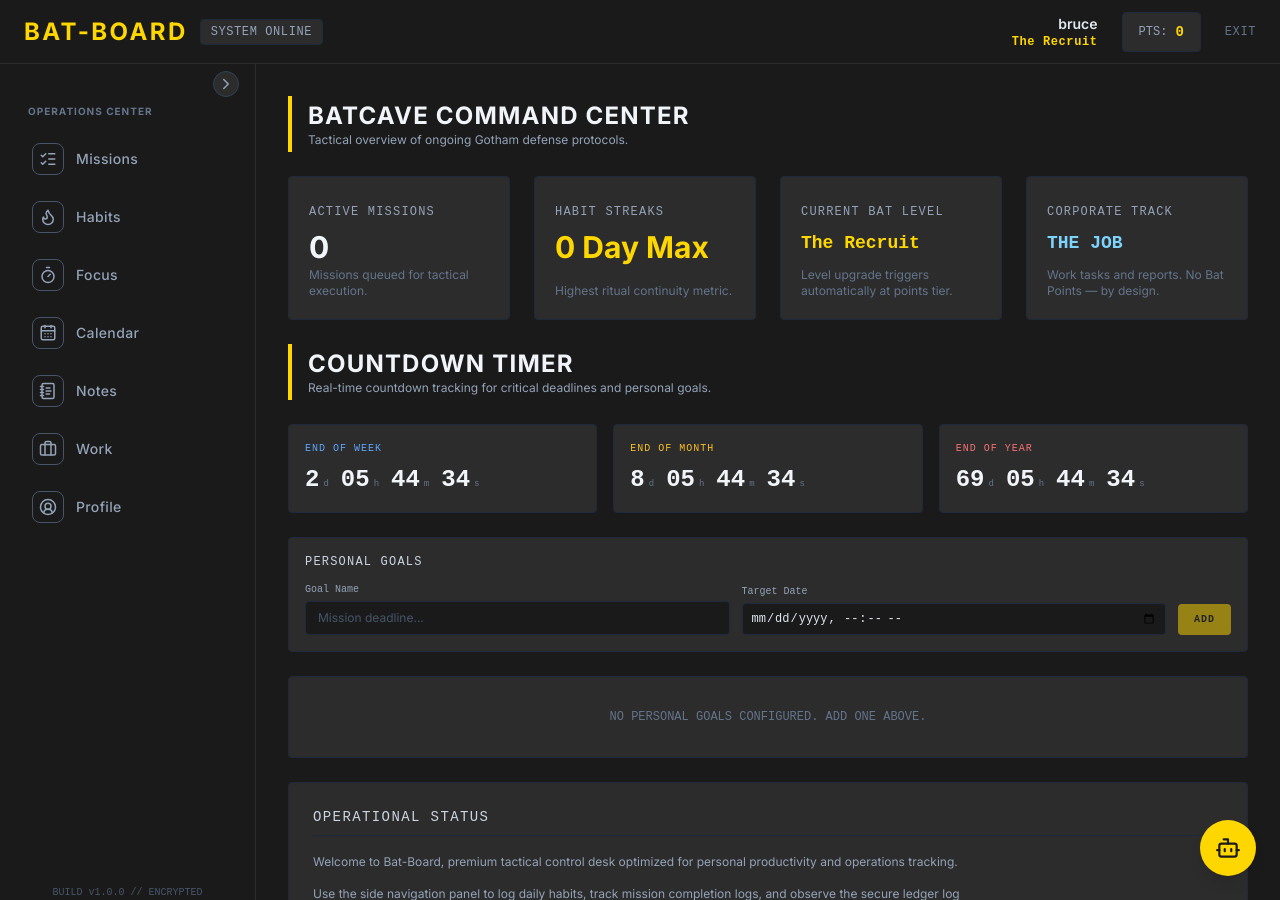
the work side appears only when it is switched on › leaves the work view cleanly if the track is switched off elsewhere
Click the button "Work": click(128, 449) [16,421,239,477]
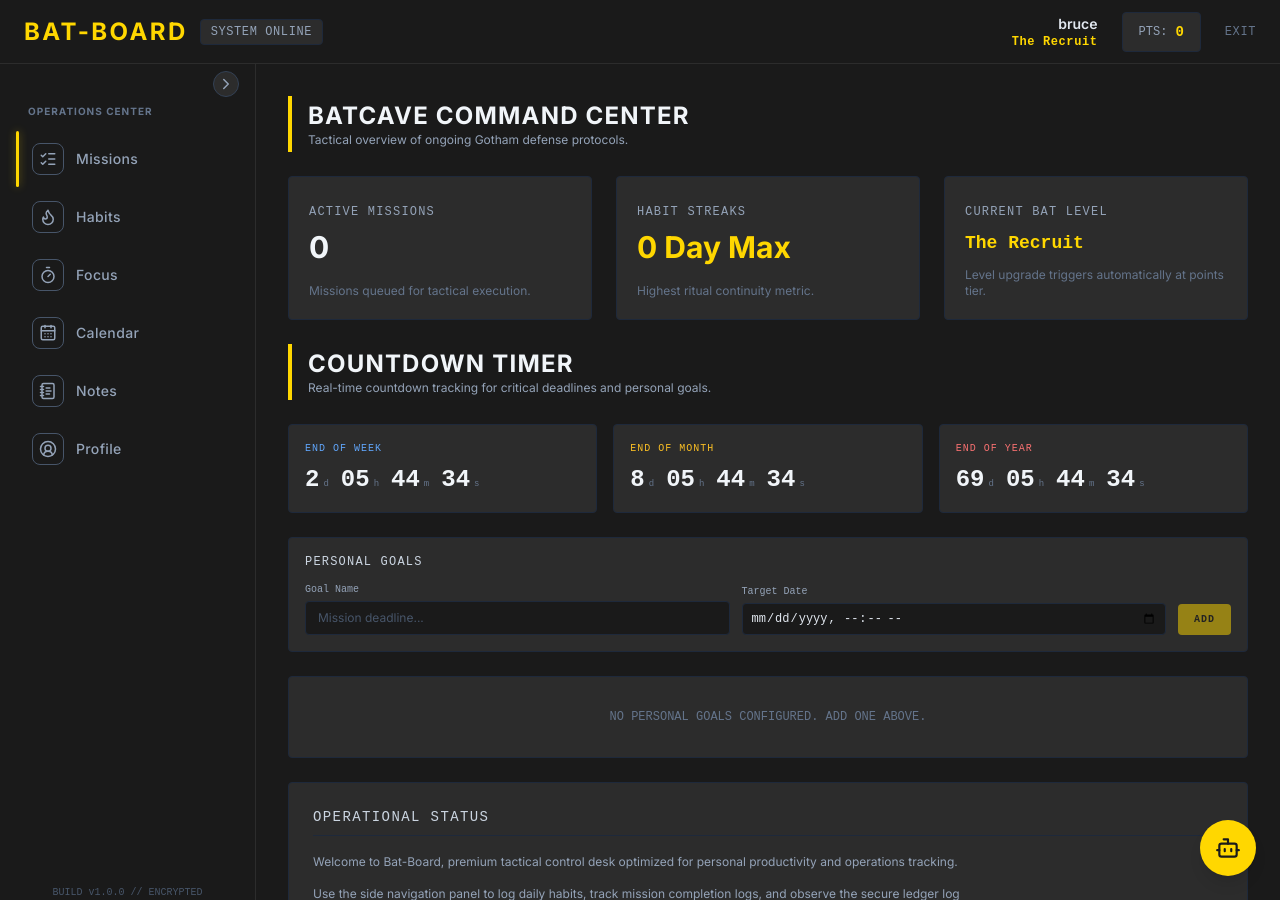
Expected: the heading "BATCAVE COMMAND CENTER" is shown, [308,101,690,130]
Result: no buttons "Work" are shown
Result: the button "Corporate Track" is gone
